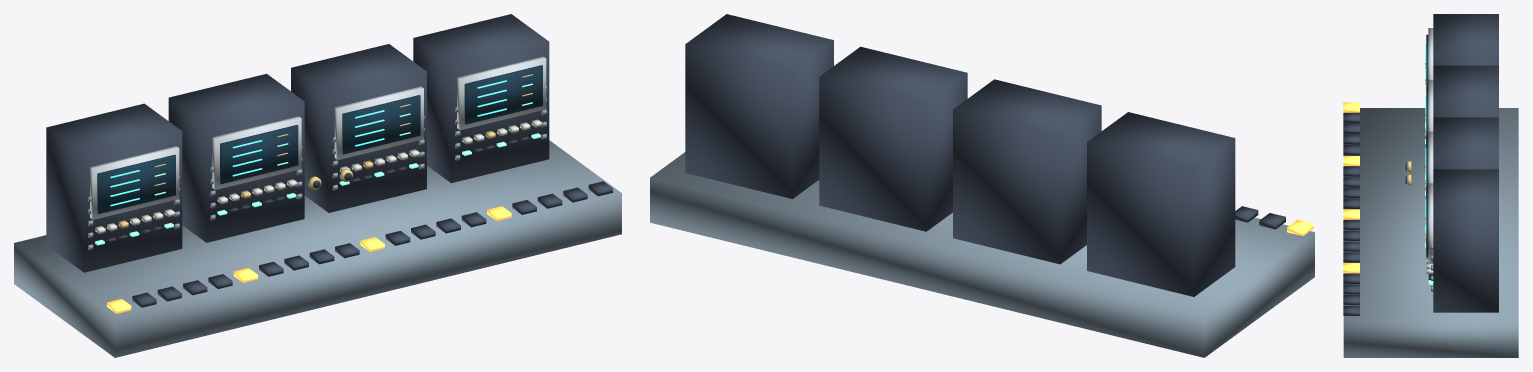
Rendered from 08_L92_ZeroGravityScienceLabBase.glb.
The picture shows the model from 3 angles, left to right: view 1: azimuth 30°, elevation 25°; view 2: azimuth 150°, elevation 25°; view 3: azimuth 270°, elevation 25°; orthographic projection. The views are drawn at different scales.
Visible parts, largest first — view 1: L92_ZeroGravityScienceLabBase; view 2: L92_ZeroGravityScienceLabBase; view 3: L92_ZeroGravityScienceLabBase.
Part boxes in pixels (<box>): L92_ZeroGravityScienceLabBase: <box>14,14,621,357</box>; L92_ZeroGravityScienceLabBase: <box>650,14,1314,357</box>; L92_ZeroGravityScienceLabBase: <box>1343,14,1518,357</box>.
Size of the model in its own units: 5.8 by 1.75 by 2.
